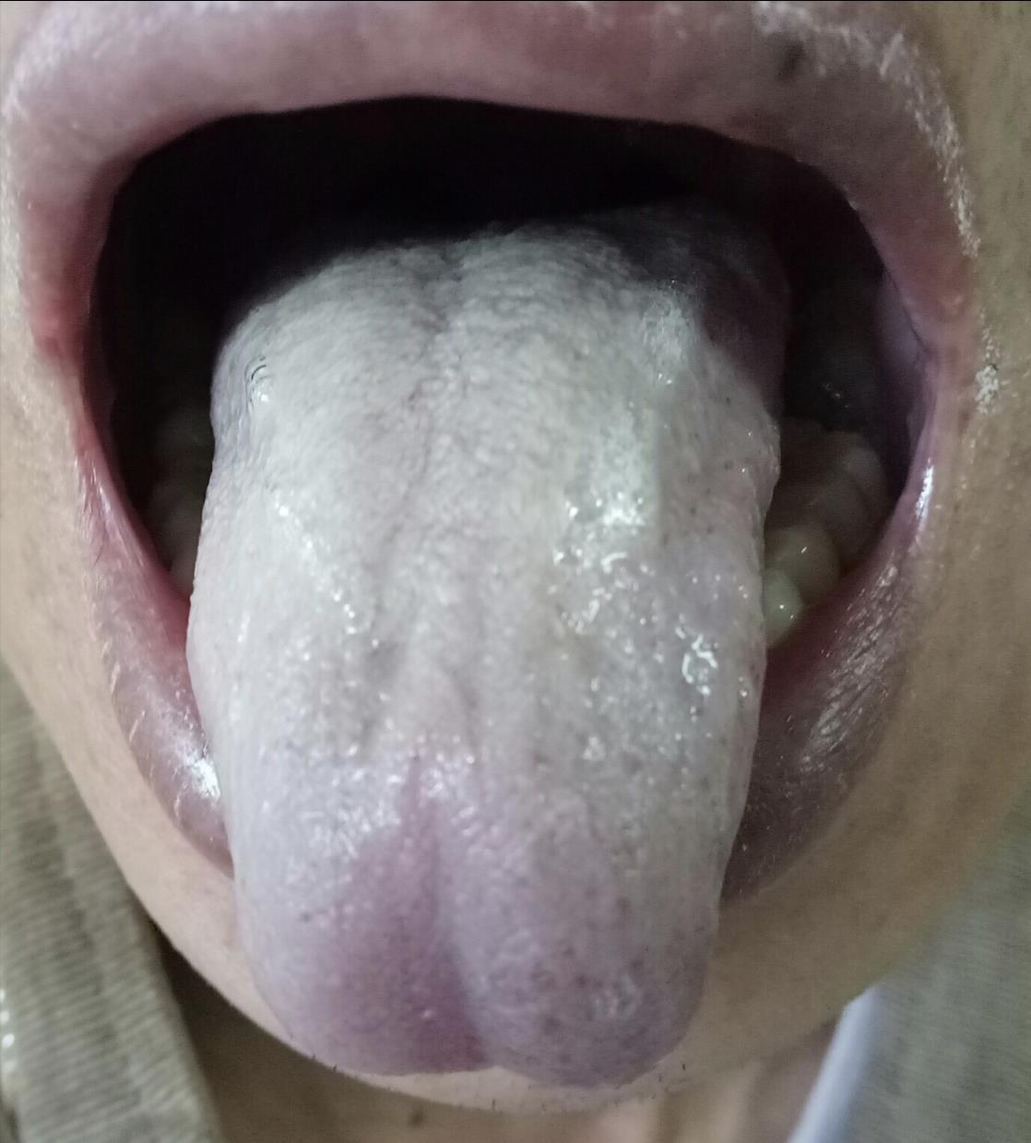baitaishe: (184, 237, 785, 1090)
